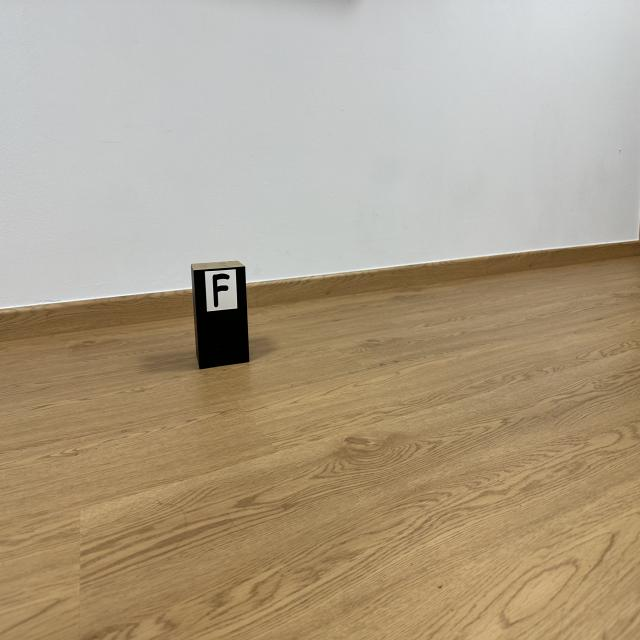F: (212, 273, 230, 308)
